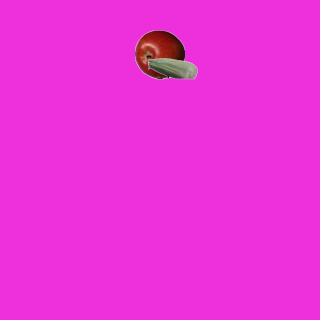Apple Braeburn: (134, 29, 184, 79)
Corn Husk: (147, 43, 197, 93)
